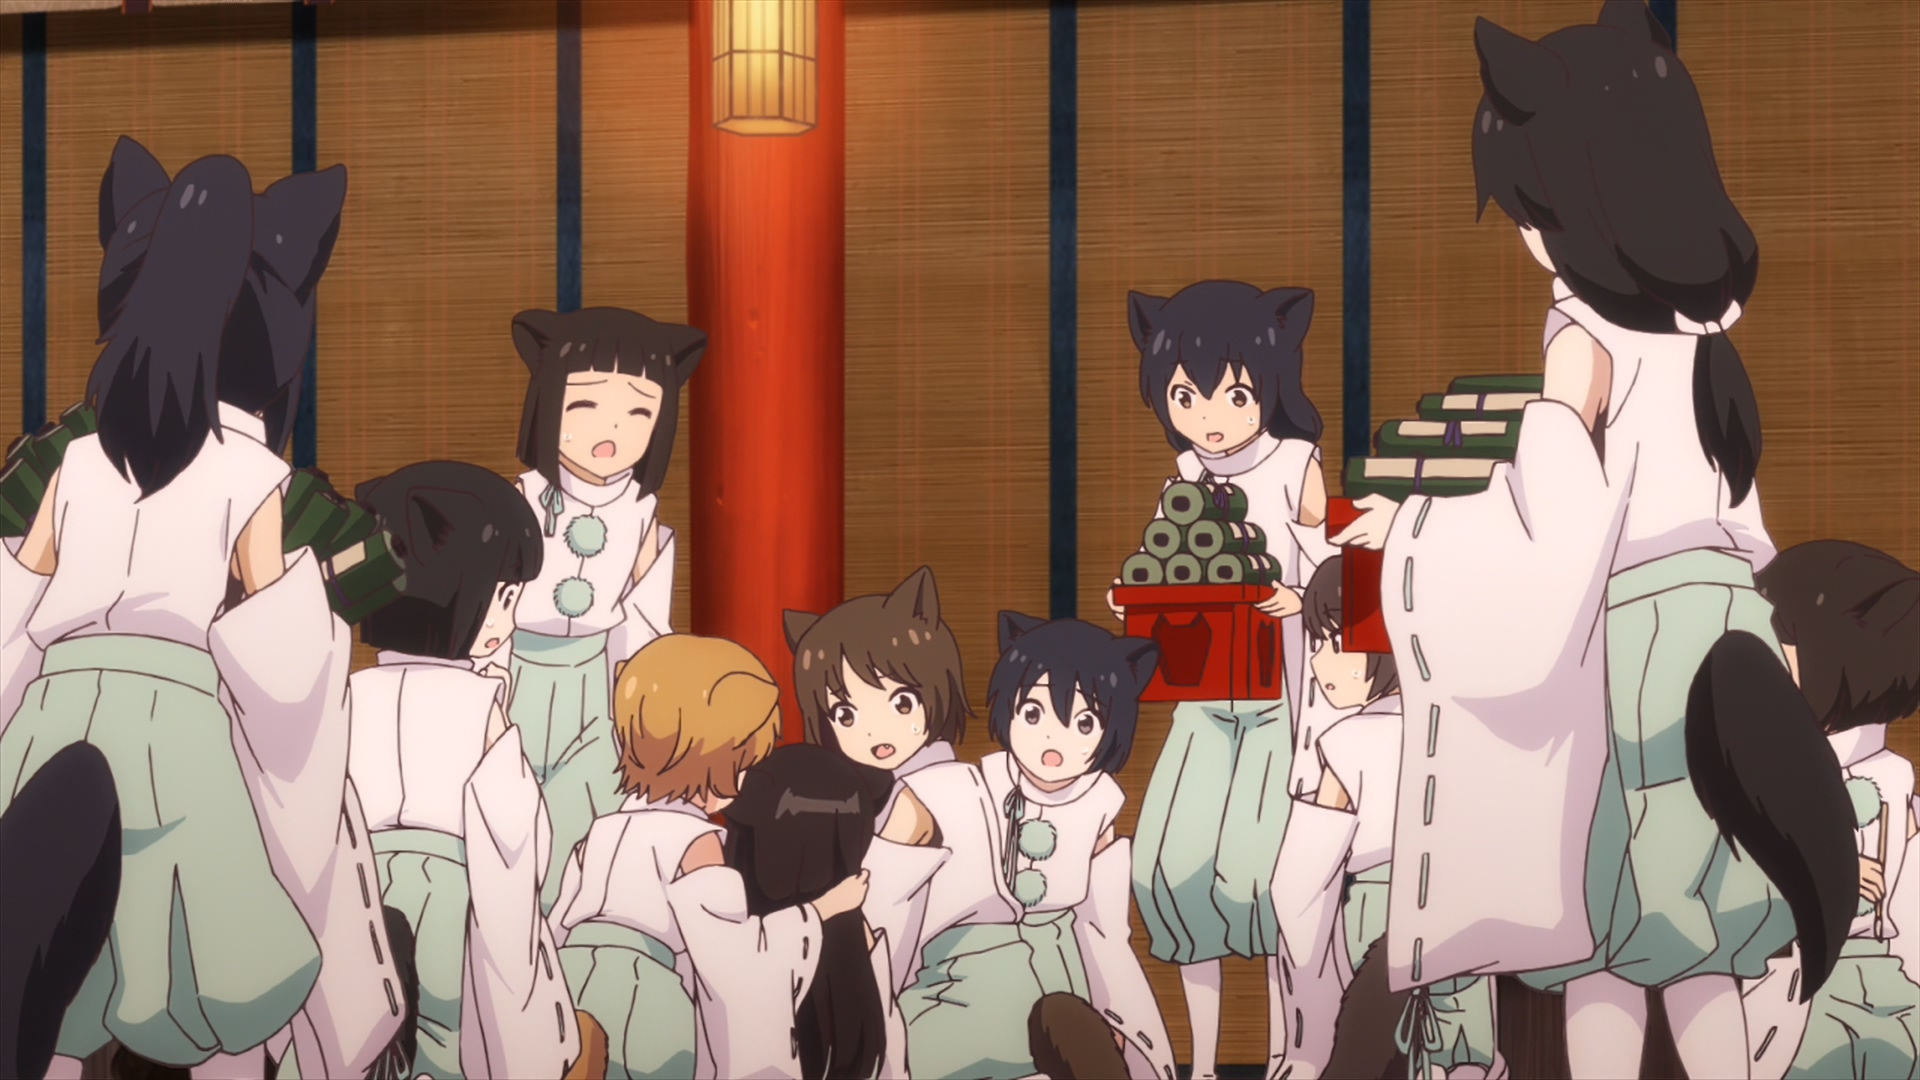其他: (1327, 1, 1859, 1080), (1, 135, 409, 1080), (1105, 278, 1327, 1080), (783, 564, 1124, 1080), (326, 460, 579, 1080), (545, 632, 869, 1080), (477, 306, 709, 916), (1269, 558, 1505, 1080), (978, 611, 1178, 1080), (1753, 543, 1920, 1080), (723, 742, 913, 1080)
